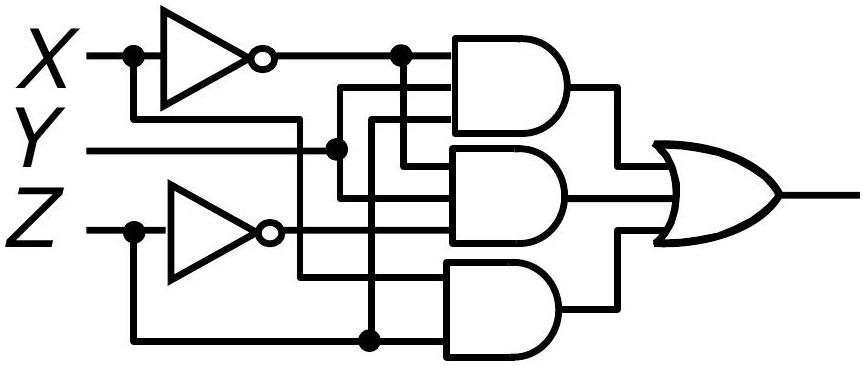and: (438, 139, 574, 252), (434, 251, 568, 364), (444, 27, 576, 139)
not: (155, 172, 288, 292), (151, 1, 283, 114)
or: (644, 131, 792, 257)
